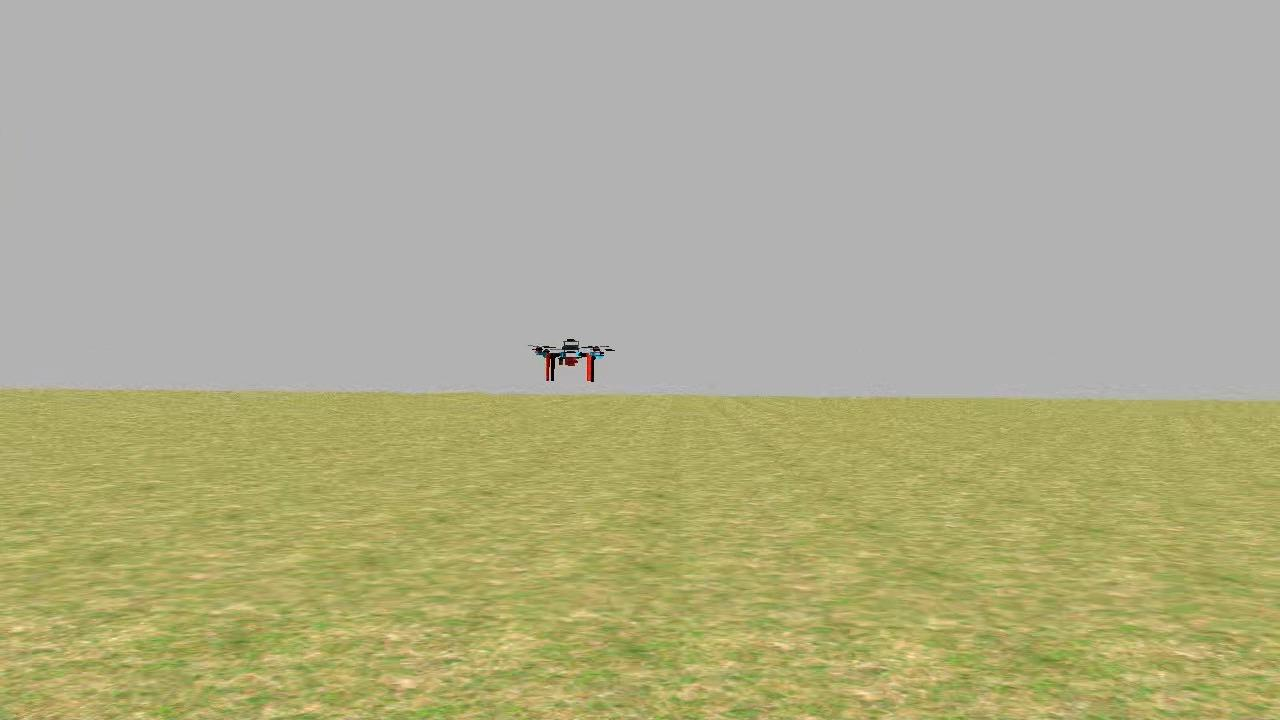UAV: (532, 332, 610, 383)
